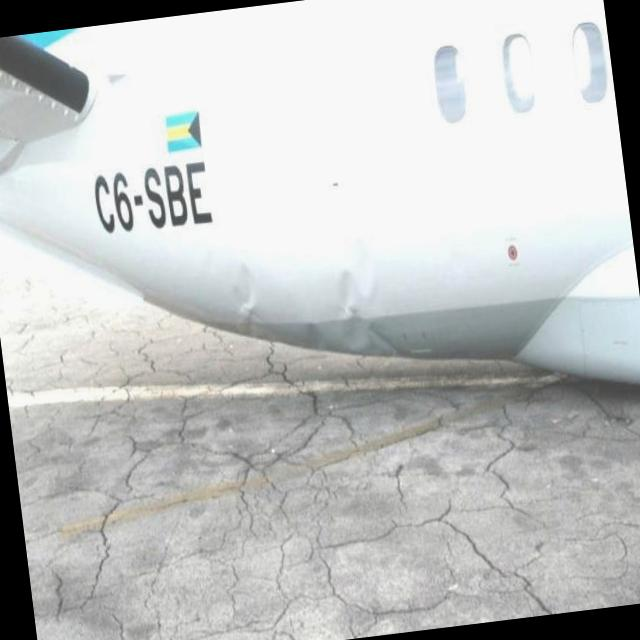dent: (222, 224, 393, 382)
